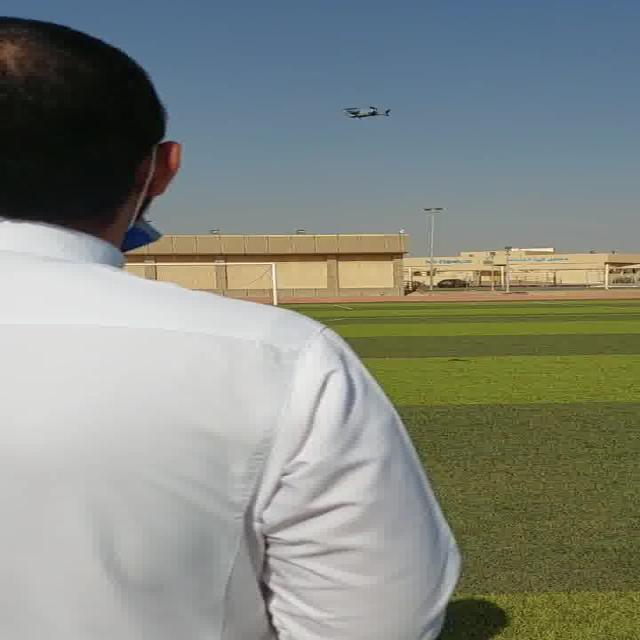drone: (334, 103, 396, 123)
